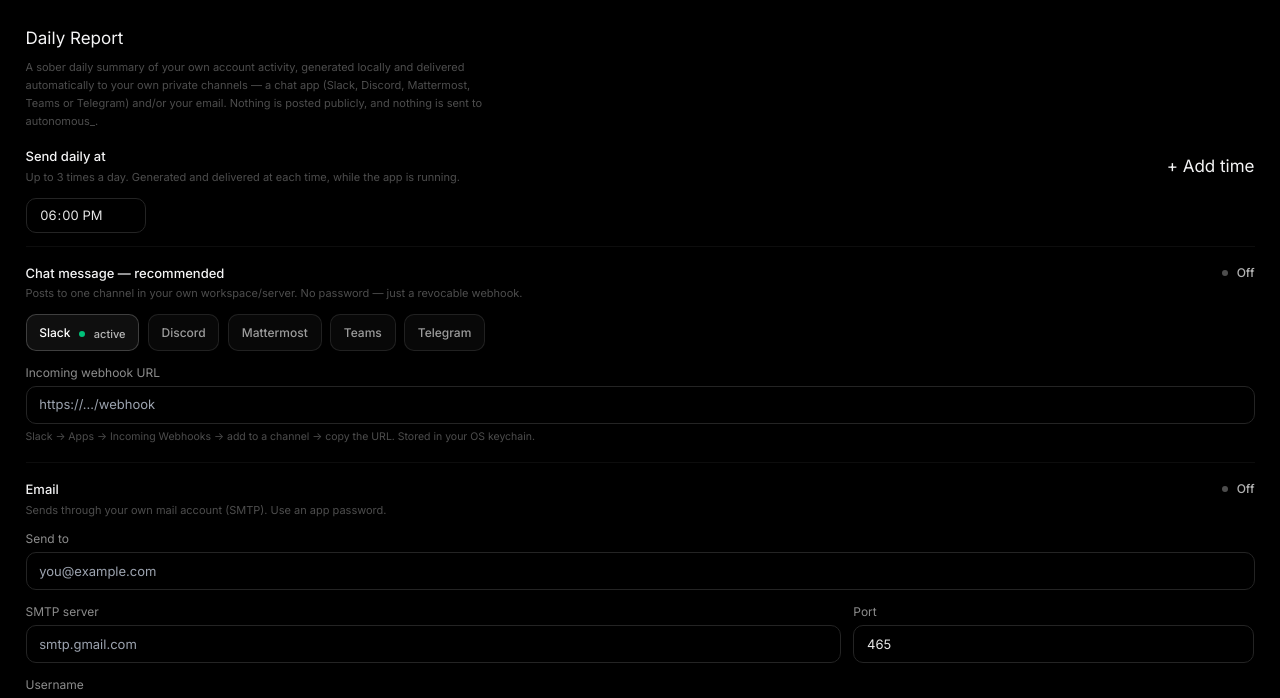
Test: Daily Report card › shows a per-channel Active/Off marker driven by configuration
The width and height of the screenshot is (1280, 698).
Configure the chat webhook → that channel flips to "Active"
Step 1. Type "https://hooks.slack.com/services/T/B/x" into the password field named "webhook-url" → x=640, y=405, box [26,386,1254,424]
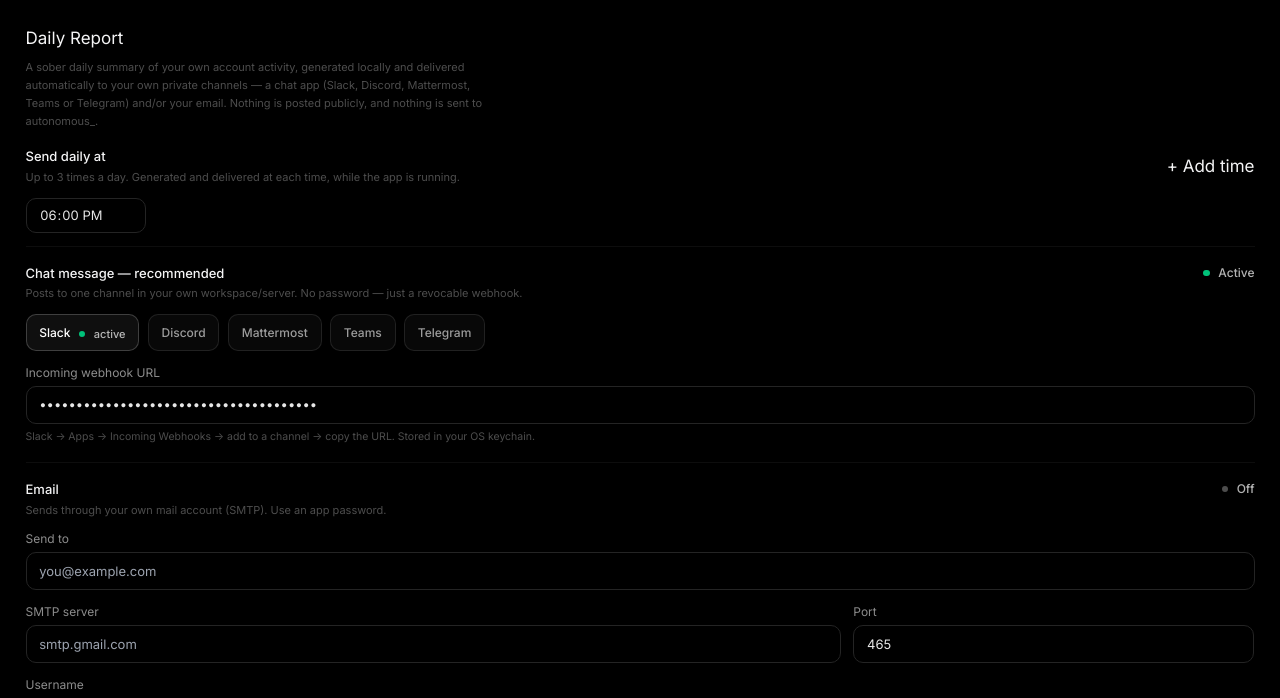
Result: the text "Active" is shown at [1218,264,1254,282]
